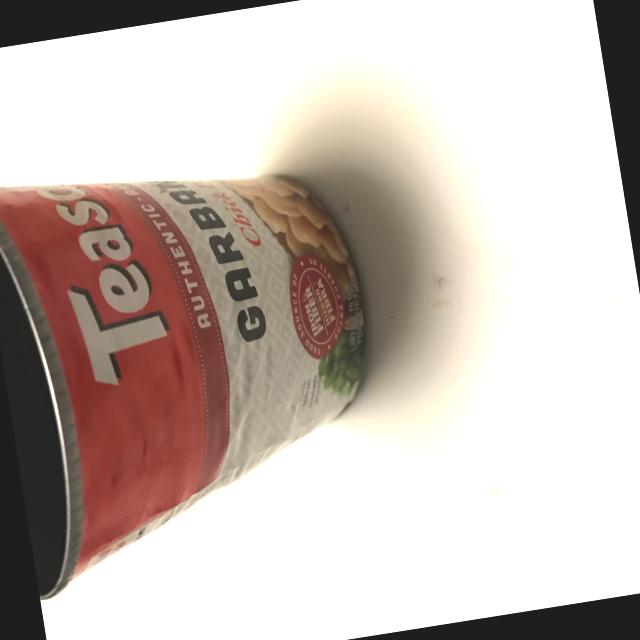Metal: (0, 104, 441, 612)
